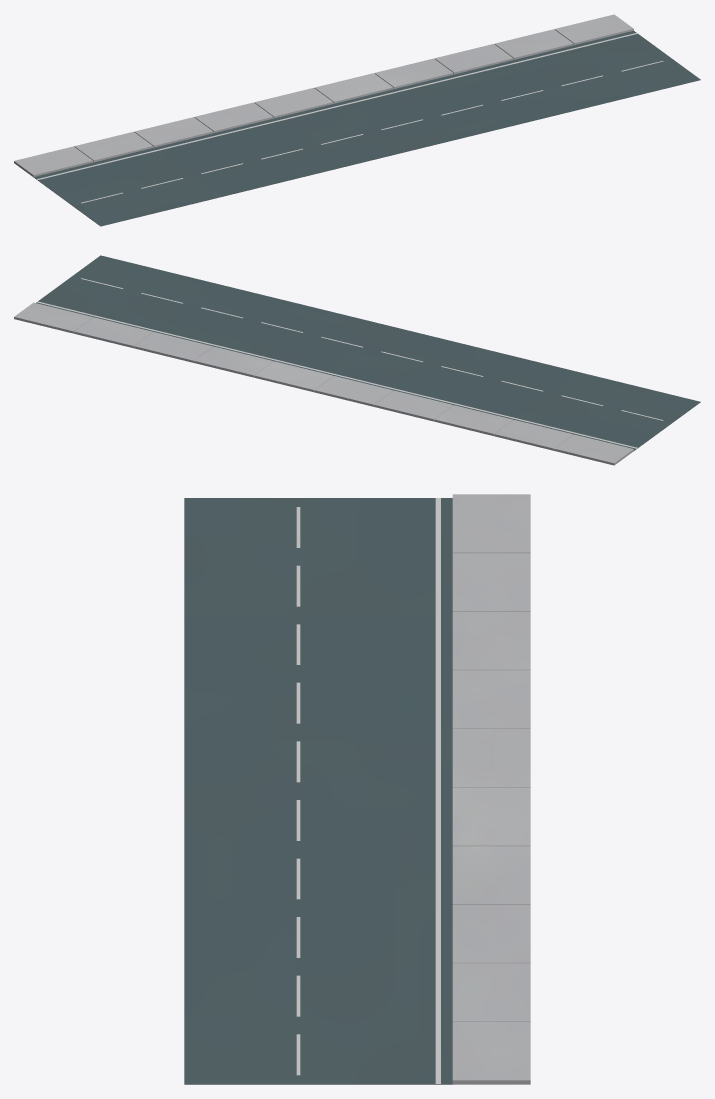
The model's file is Road.fbx.
3 views of the same model, one above another, from view 1: azimuth 30°, elevation 25°; view 2: azimuth 150°, elevation 25°; view 3: azimuth 270°, elevation 25° (orthographic). The views are drawn at different scales.
Visible parts, largest first — view 1: Road; view 2: Road; view 3: Road.
Boxes of the visible parts, bbox=[...] form: Road: bbox=[14, 14, 700, 226]; Road: bbox=[14, 255, 700, 465]; Road: bbox=[184, 494, 530, 1084].
Bounding box in the file's own units: 2000 × 7.15 × 500.
